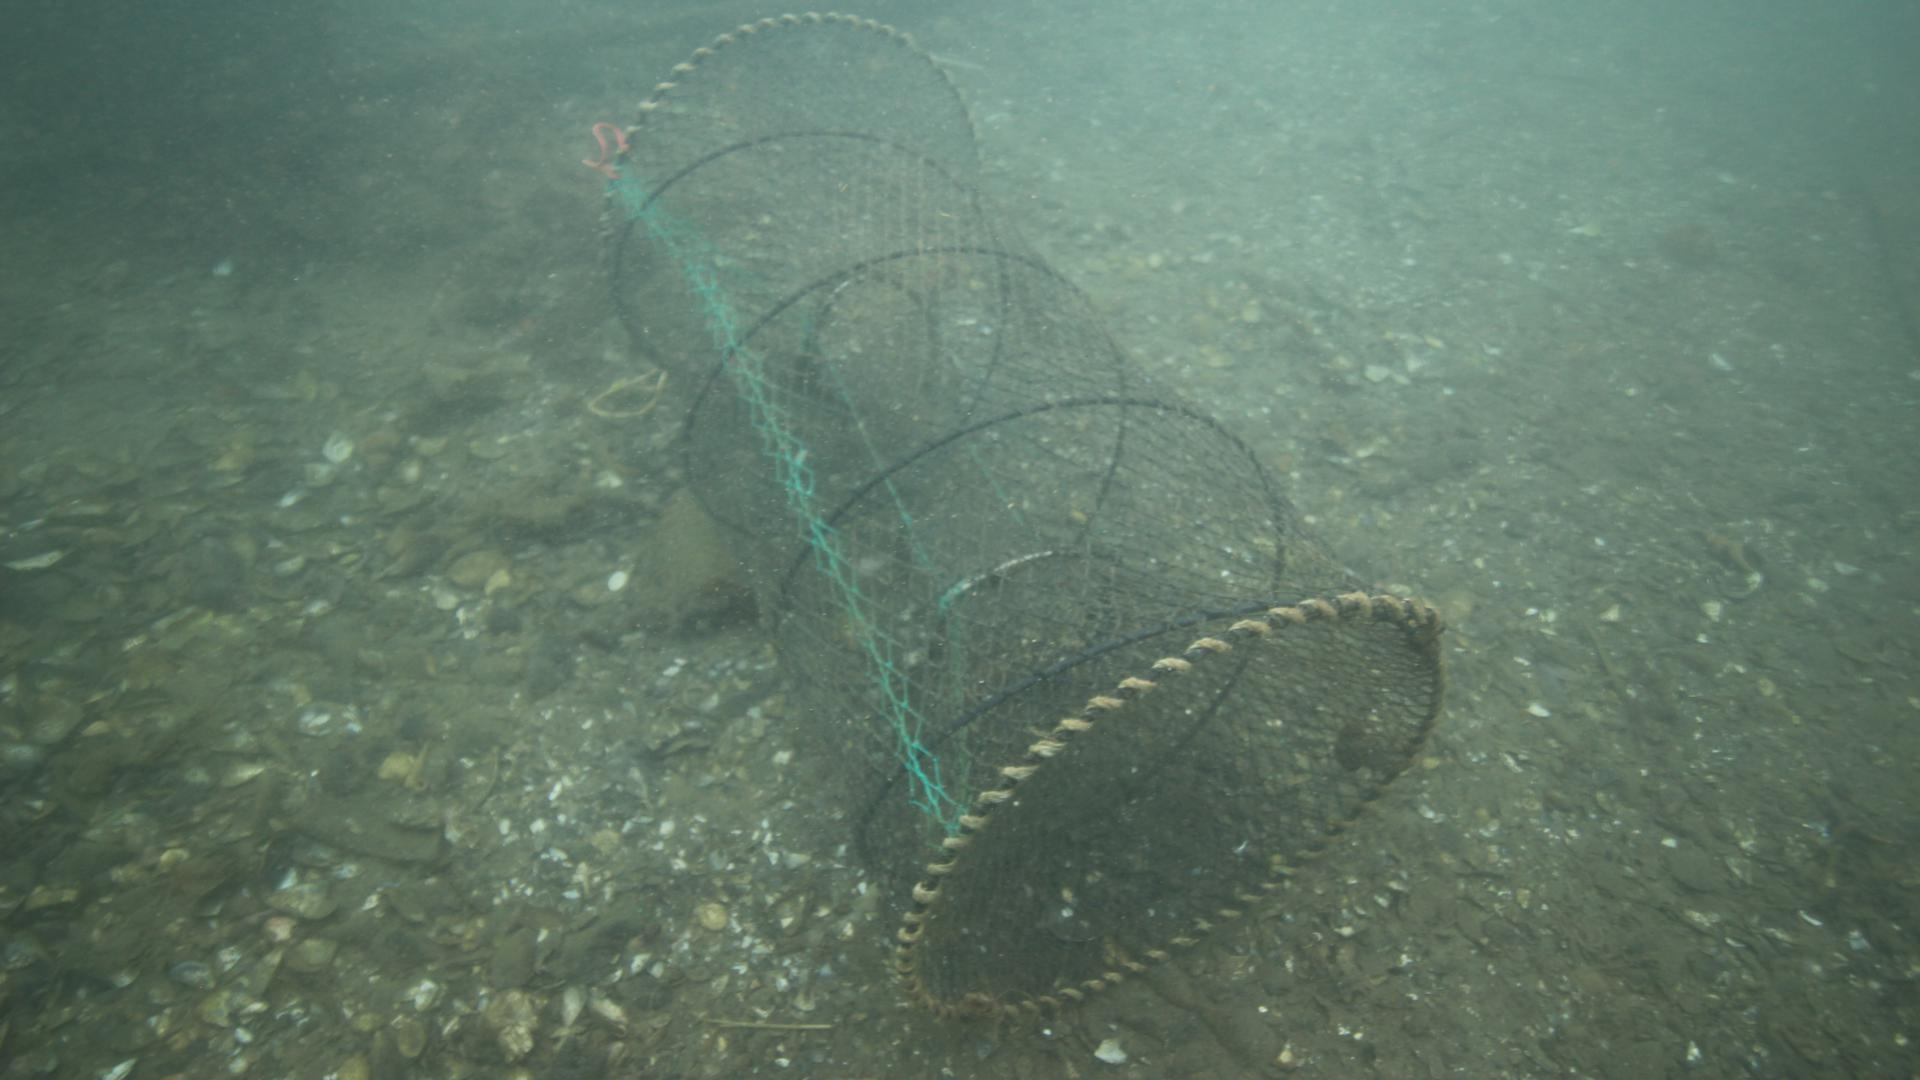spring fish trap: (593, 8, 1444, 1025)
